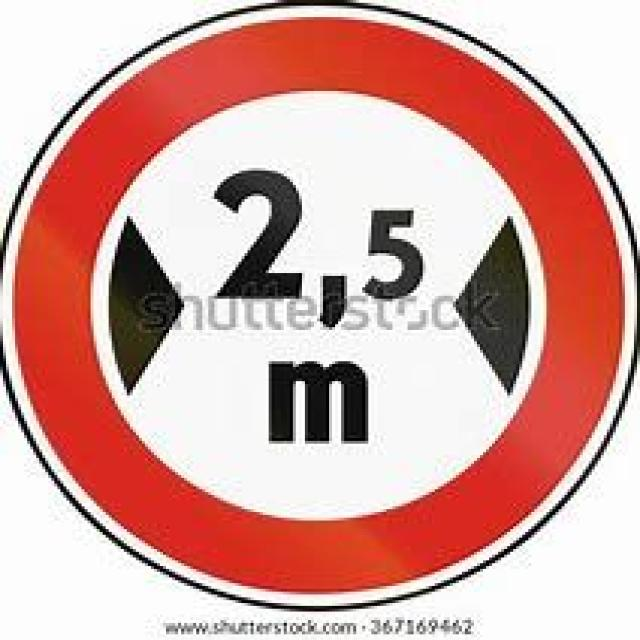WIDTH_LIMIT: (0, 0, 637, 615)
